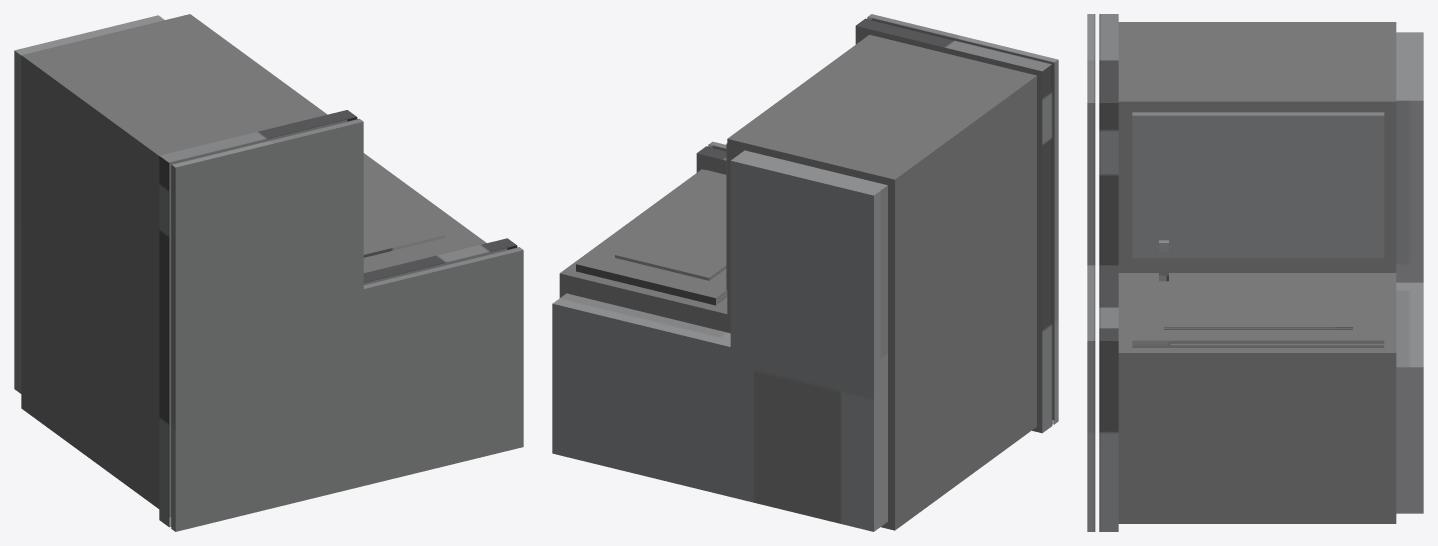
The picture shows the model from 3 angles, left to right: view 1: azimuth 30°, elevation 25°; view 2: azimuth 150°, elevation 25°; view 3: azimuth 270°, elevation 25°; orthographic projection. The views are drawn at different scales.
Bounding box in the file's own units: 0.99 × 0.99 × 0.855.
